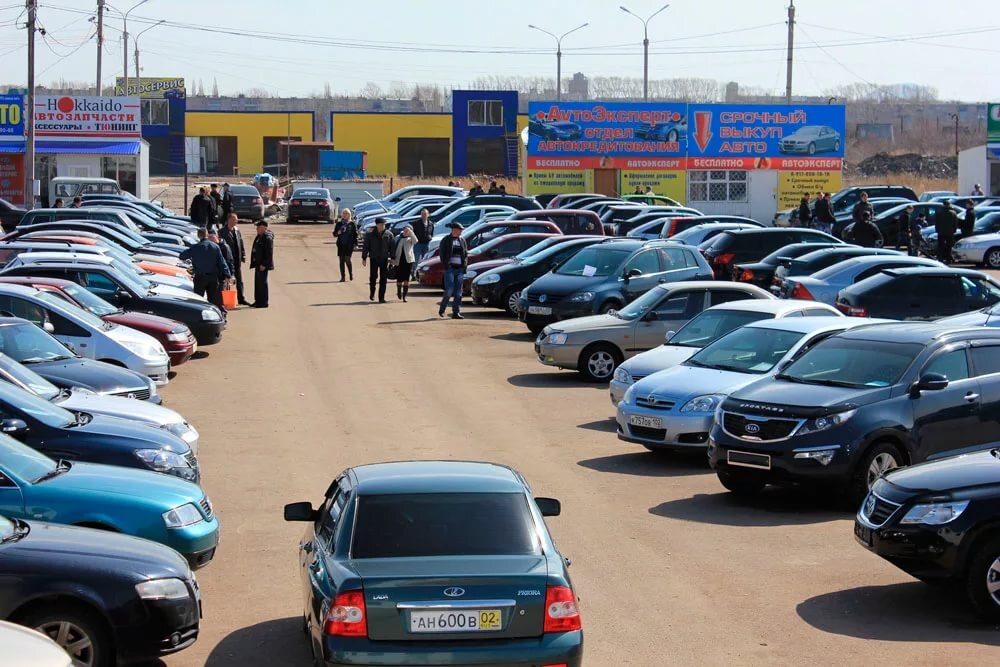Car: (283, 460, 585, 667), (707, 322, 1000, 504), (616, 315, 929, 456), (0, 515, 204, 667), (0, 432, 220, 568), (853, 447, 1000, 626), (608, 298, 847, 405), (534, 280, 780, 382), (0, 380, 201, 482), (0, 352, 198, 453), (516, 236, 714, 333), (0, 263, 226, 346), (0, 283, 171, 387), (0, 277, 197, 367), (0, 316, 162, 404), (469, 237, 610, 316), (0, 236, 195, 292), (1, 252, 211, 302), (414, 232, 566, 290), (463, 235, 615, 293), (779, 255, 950, 306), (837, 267, 1000, 320), (704, 228, 847, 280), (18, 229, 190, 272), (27, 236, 192, 280), (388, 193, 546, 236), (769, 248, 909, 296), (18, 207, 185, 245), (14, 220, 180, 258), (733, 242, 865, 289), (841, 202, 967, 248), (423, 220, 562, 259), (80, 205, 200, 241), (64, 219, 190, 252), (352, 184, 466, 220), (920, 205, 1000, 255), (81, 199, 201, 229), (0, 620, 76, 667), (926, 211, 1000, 259), (831, 200, 917, 240), (429, 212, 518, 250), (359, 197, 464, 229), (360, 203, 448, 239), (356, 195, 447, 229), (119, 209, 200, 246), (505, 209, 617, 235), (434, 204, 521, 234), (41, 176, 124, 207), (660, 215, 769, 238), (831, 185, 921, 211), (672, 223, 764, 246), (286, 187, 342, 224), (613, 212, 699, 236), (951, 230, 1000, 270), (601, 205, 704, 224), (779, 125, 841, 155), (528, 112, 582, 144), (932, 302, 1000, 327), (834, 197, 911, 218), (635, 114, 687, 145), (229, 183, 265, 222), (125, 201, 191, 221), (364, 191, 419, 213), (580, 201, 644, 218), (0, 198, 28, 235), (548, 193, 608, 210), (627, 217, 666, 239), (621, 195, 685, 208), (560, 198, 623, 209), (697, 231, 726, 254), (951, 195, 1000, 208), (771, 206, 799, 227), (81, 193, 136, 201), (532, 193, 559, 209), (920, 192, 961, 202), (122, 191, 148, 202), (928, 196, 970, 202), (164, 88, 184, 98), (976, 198, 1000, 206), (0, 230, 17, 239), (0, 219, 6, 237)
